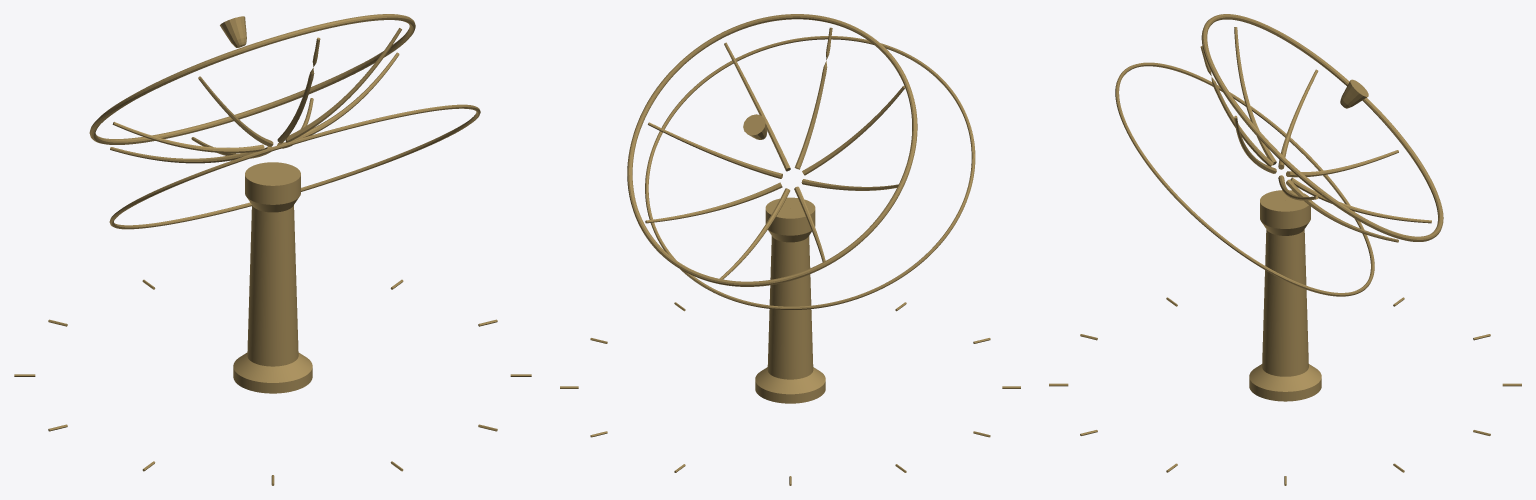
File: observatory--patinated-bronze.glb
The picture shows the model from 3 angles, left to right: view 1: azimuth 30°, elevation 25°; view 2: azimuth 150°, elevation 25°; view 3: azimuth 270°, elevation 25°; orthographic projection. The views are drawn at different scales.
Parts seen in each view (by area): view 1: observatory; view 2: observatory; view 3: observatory.
Part boxes in pixels (<box>): observatory: <box>14,14,531,485</box>; observatory: <box>560,14,1020,485</box>; observatory: <box>1049,14,1521,485</box>.
Size of the model in its own units: 4.44 by 3.63 by 4.44.
